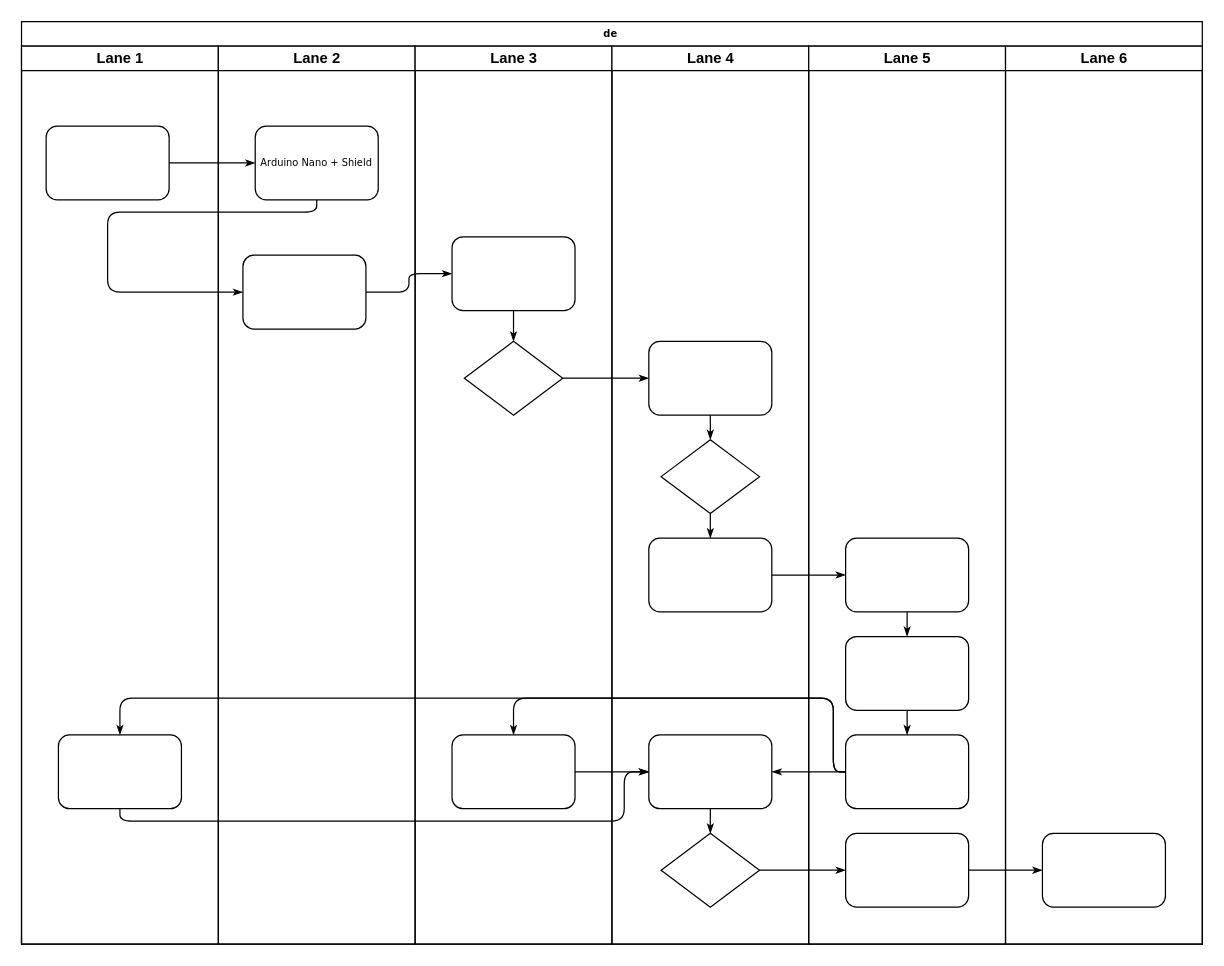
The diagram is 1224 pixels wide and 966 high, and some of its shapes have lost their labels. The shapes that lost their labels are listed below. From the top down, each one's centre as x and y in pixels, then its label:
At point 107,162: "Fuente de CC".
At point 304,291: "Servomotores".
